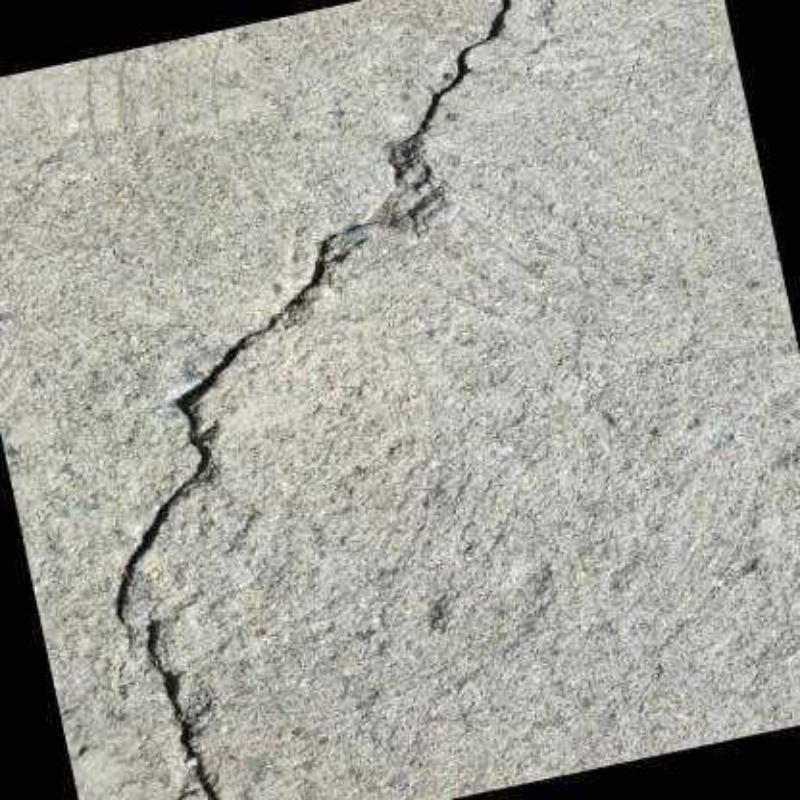pothole: (115, 1, 513, 644), (145, 620, 221, 800)
